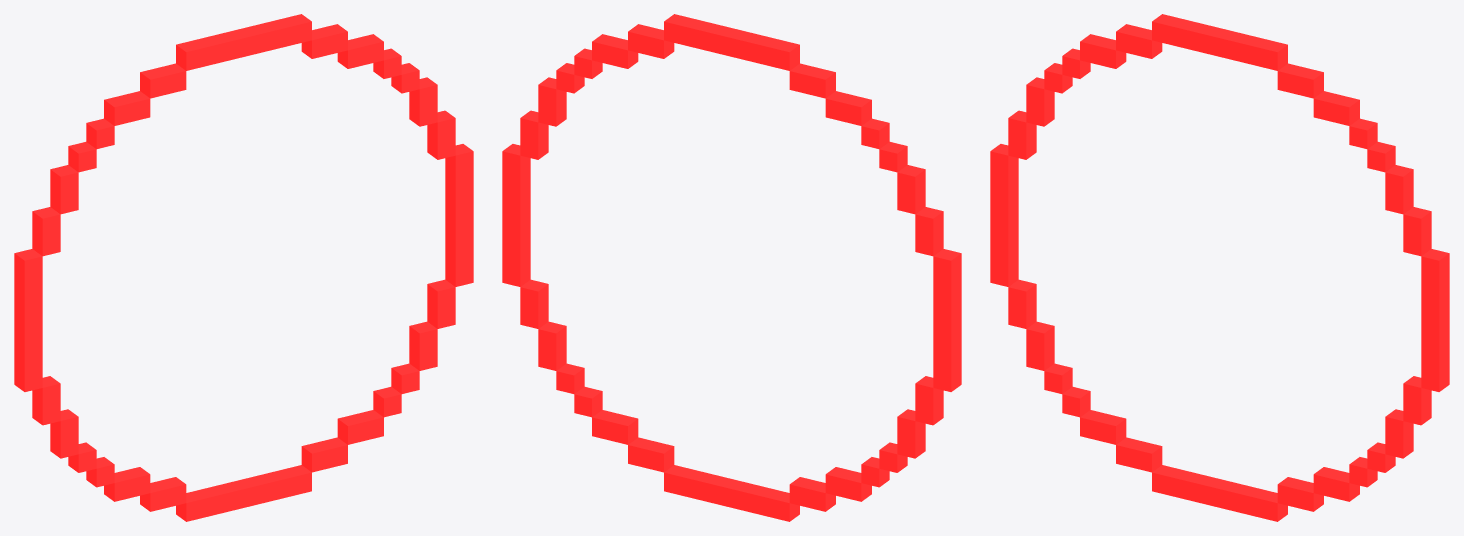
The model's file is neon_kolo_dodatek.dae.
The picture shows the model from 3 angles, left to right: view 1: azimuth 30°, elevation 25°; view 2: azimuth 150°, elevation 25°; view 3: azimuth 330°, elevation 25°; orthographic projection.
Visible parts, largest first — view 1: Content; view 2: Content; view 3: Content.
Boxes of the visible parts, box(x1,y1,x2,y2) form: Content: box(14, 14, 473, 521); Content: box(502, 14, 961, 521); Content: box(990, 14, 1449, 521).
Size of the model in its own units: 25 by 25 by 1.
Materials: 1 (1 with a texture image).
